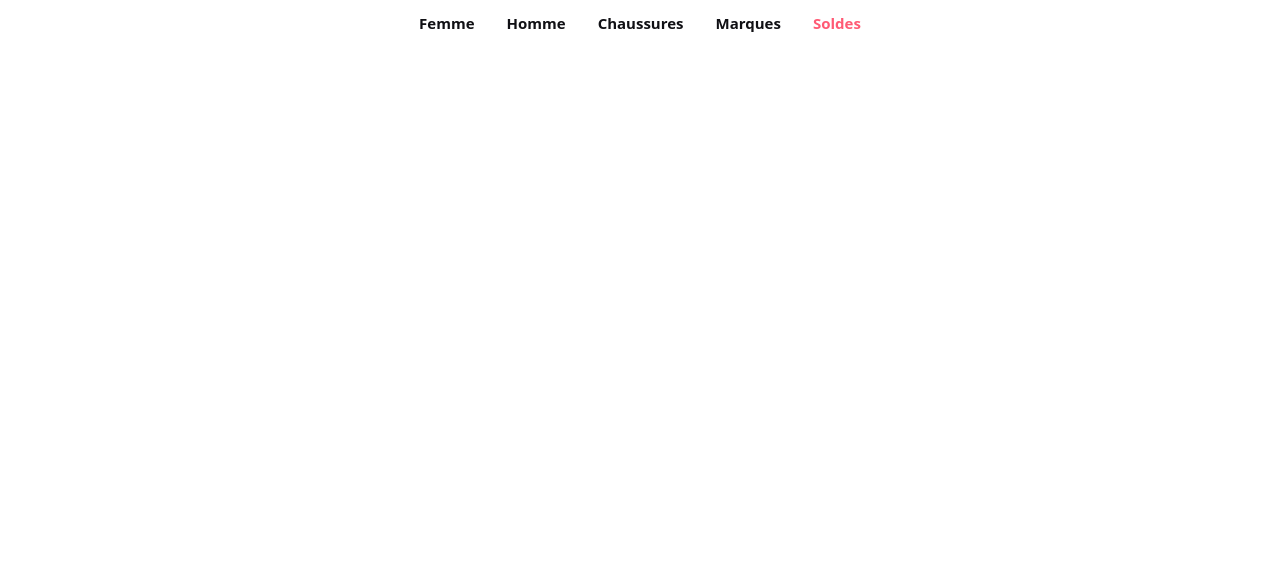
it: NavigationPrincipale — méga-menu › n’ouvre rien pour les soldes, et s’ouvre aussi au clavier
The width and height of the screenshot is (1280, 561).
Focus the link "Femme" at coordinates (447, 23), box [419,12,474,34]
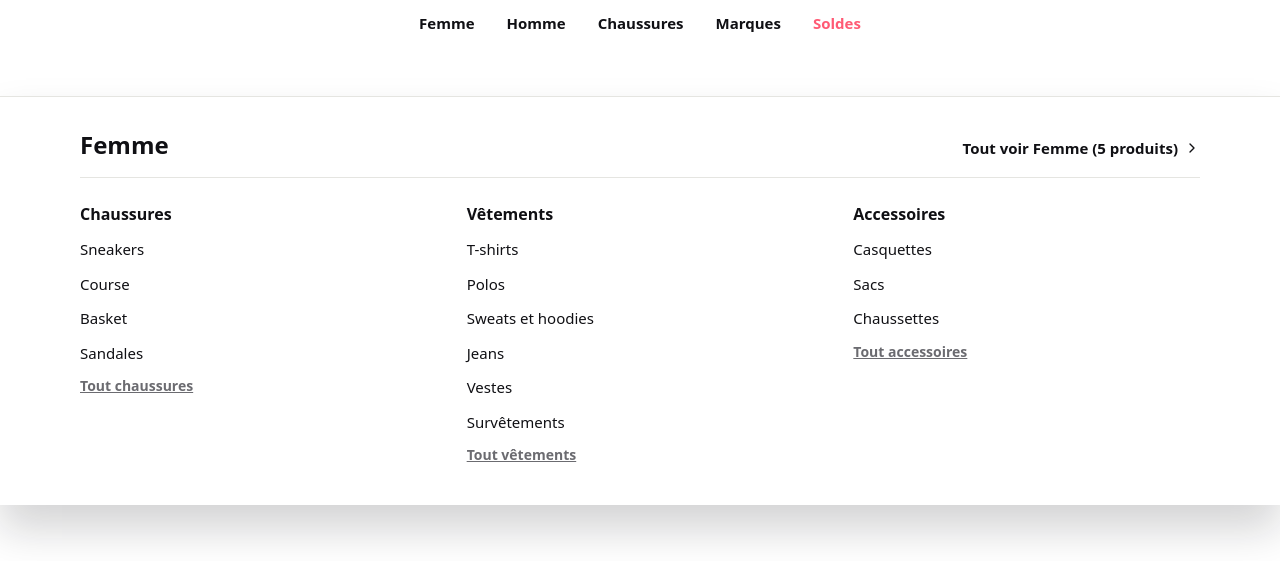
Expected: the element named "Sous-catégories de Femme" is shown
